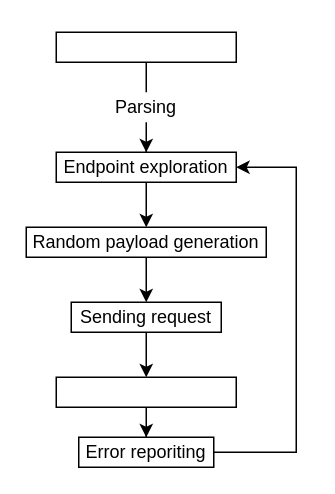
The diagram is 335 pixels wide and 494 high, and some of its shapes have lost their labels. The shapes that lost their labels are listed below. From the top down, each one's centre as x and y in pixels, then its label:
At (145,46): "OpenAPI specification".
At (145,391): "Response checking".
